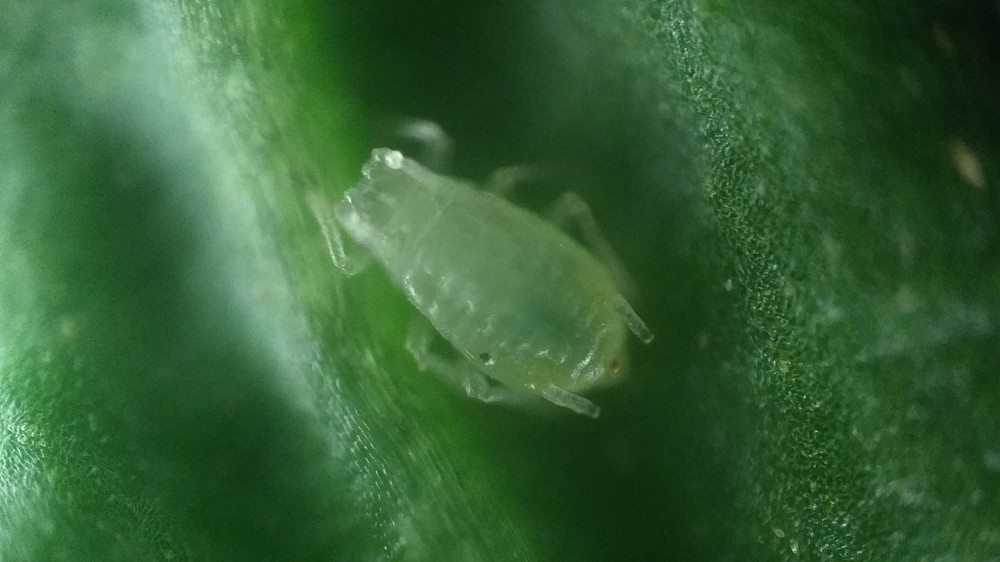Pulgon: (291, 121, 694, 449)
